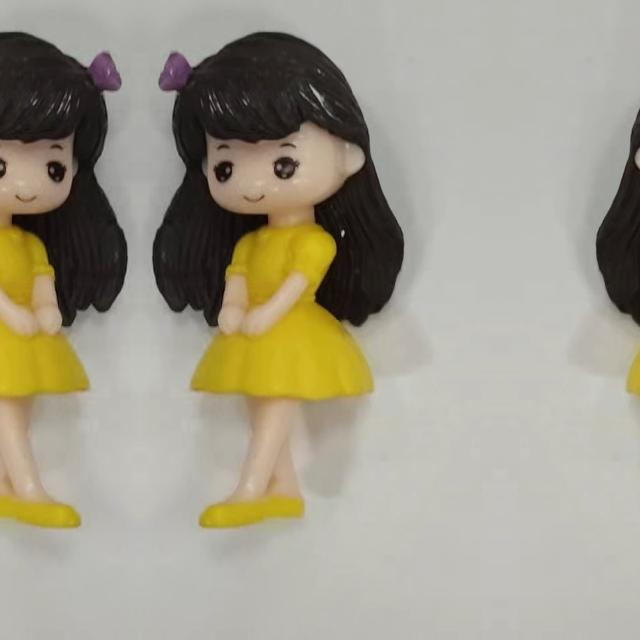woman dress: (190, 230, 364, 550), (0, 229, 89, 550), (636, 229, 640, 550)
woman head: (161, 24, 383, 226), (0, 24, 119, 226), (617, 24, 640, 226)
